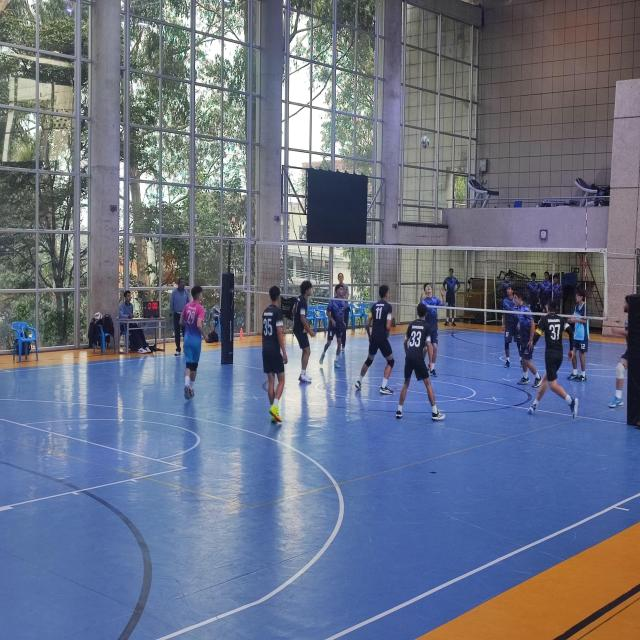volleyball: (420, 136, 430, 148), (94, 312, 102, 322)
